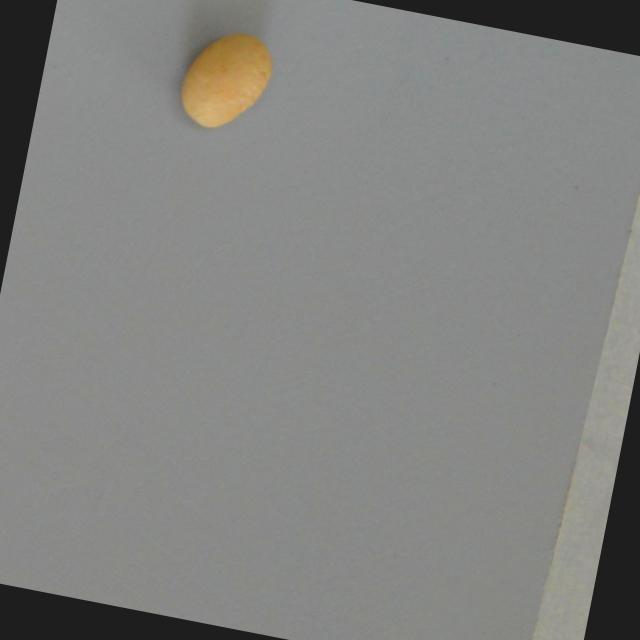cuerpos_extranos: (166, 20, 288, 141)
